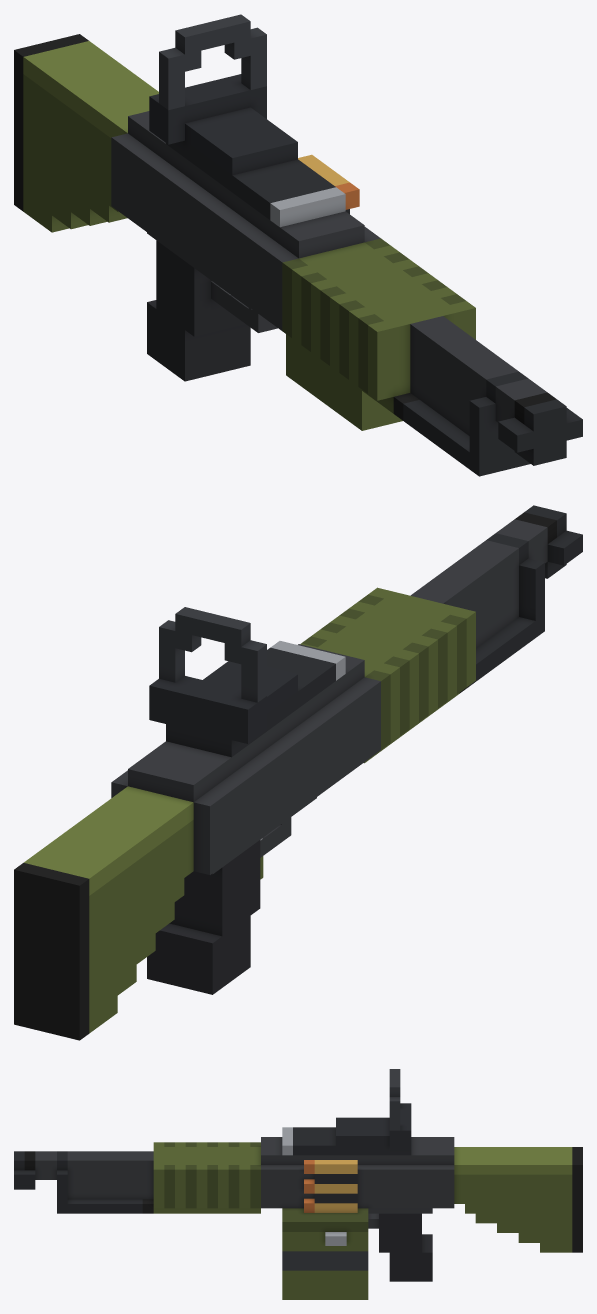
File: lmg.glb
3 views of the same model, one above another, from view 1: azimuth 30°, elevation 25°; view 2: azimuth 150°, elevation 25°; view 3: azimuth 270°, elevation 25° (orthographic). The views are drawn at different scales.
Visible parts, largest first — view 1: lmg_body; view 2: lmg_body; view 3: lmg_body.
Boxes of the visible parts, box(x1,y1,x2,y2) form: lmg_body: box(14, 14, 582, 476); lmg_body: box(14, 505, 582, 1040); lmg_body: box(14, 1069, 582, 1299).
Size of the model in its own units: 0.3906 by 0.7812 by 2.07.
Materials: 1 (1 with a texture image).
